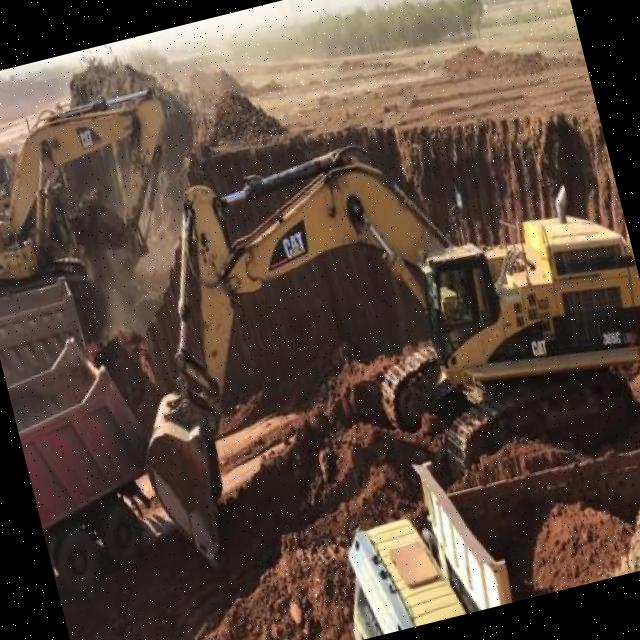Dump Truck: (301, 393, 640, 640), (1, 334, 171, 582)
Excavator: (84, 79, 640, 579), (0, 66, 197, 303)
